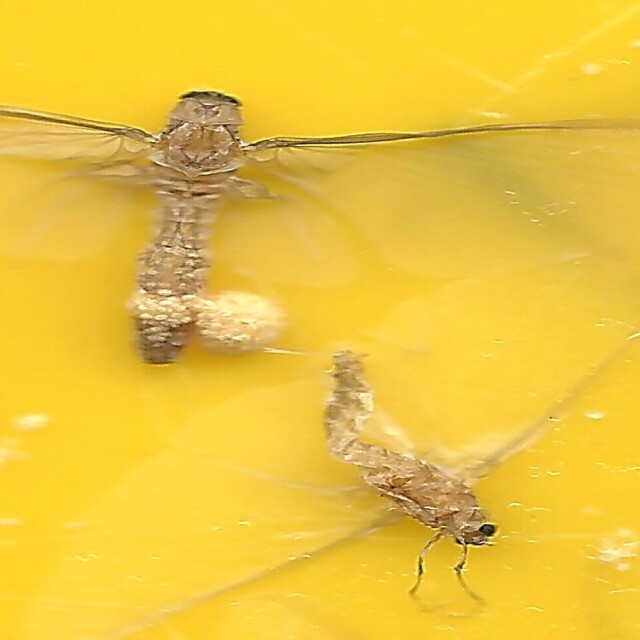Ephemeroptera: (317, 348, 508, 556), (132, 84, 250, 370)
